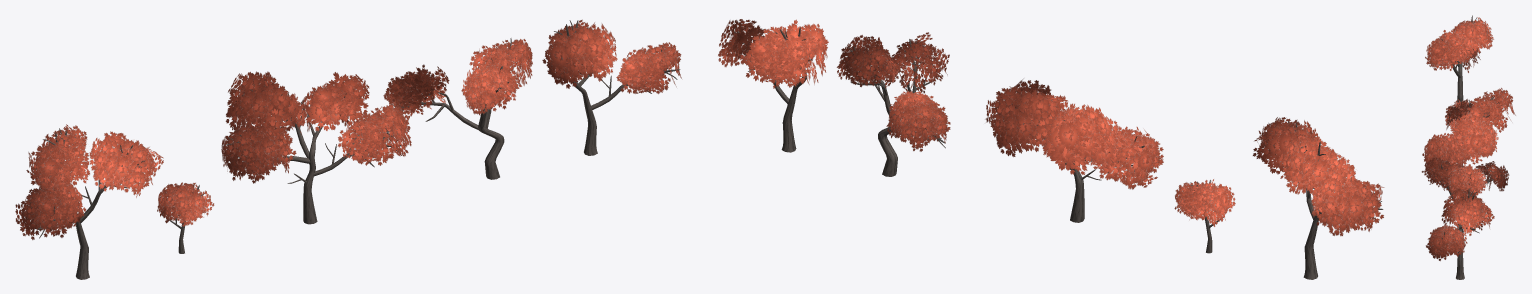
Rendered from tree-maple.glb.
3 views of the same model, side by side, from view 1: azimuth 30°, elevation 25°; view 2: azimuth 150°, elevation 25°; view 3: azimuth 270°, elevation 25° (orthographic). The views are drawn at different scales.
Visible parts, largest first — view 1: MapleTree_3, MapleTree_5, MapleTree_2, MapleTree_1, MapleTree_4; view 2: MapleTree_3, MapleTree_5, MapleTree_2, MapleTree_1, MapleTree_4; view 3: MapleTree_3, MapleTree_1, MapleTree_5, MapleTree_2, MapleTree_4.
Part boxes in pixels (x1=…): MapleTree_3: x1=221, y1=71, x2=411, y2=224; MapleTree_5: x1=15, y1=124, x2=163, y2=279; MapleTree_2: x1=383, y1=38, x2=532, y2=179; MapleTree_1: x1=542, y1=19, x2=681, y2=155; MapleTree_4: x1=157, y1=182, x2=214, y2=253; MapleTree_3: x1=985, y1=79, x2=1163, y2=222; MapleTree_5: x1=1253, y1=117, x2=1384, y2=279; MapleTree_2: x1=837, y1=32, x2=950, y2=176; MapleTree_1: x1=718, y1=19, x2=828, y2=152; MapleTree_4: x1=1174, y1=179, x2=1235, y2=253; MapleTree_3: x1=1422, y1=87, x2=1515, y2=175; MapleTree_1: x1=1426, y1=188, x2=1494, y2=279; MapleTree_5: x1=1425, y1=15, x2=1494, y2=105; MapleTree_2: x1=1421, y1=157, x2=1509, y2=246; MapleTree_4: x1=1445, y1=99, x2=1469, y2=131.
Bounding box in the file's own units: 34.21 × 7.29 × 6.68.
2 materials, 2 textured.
